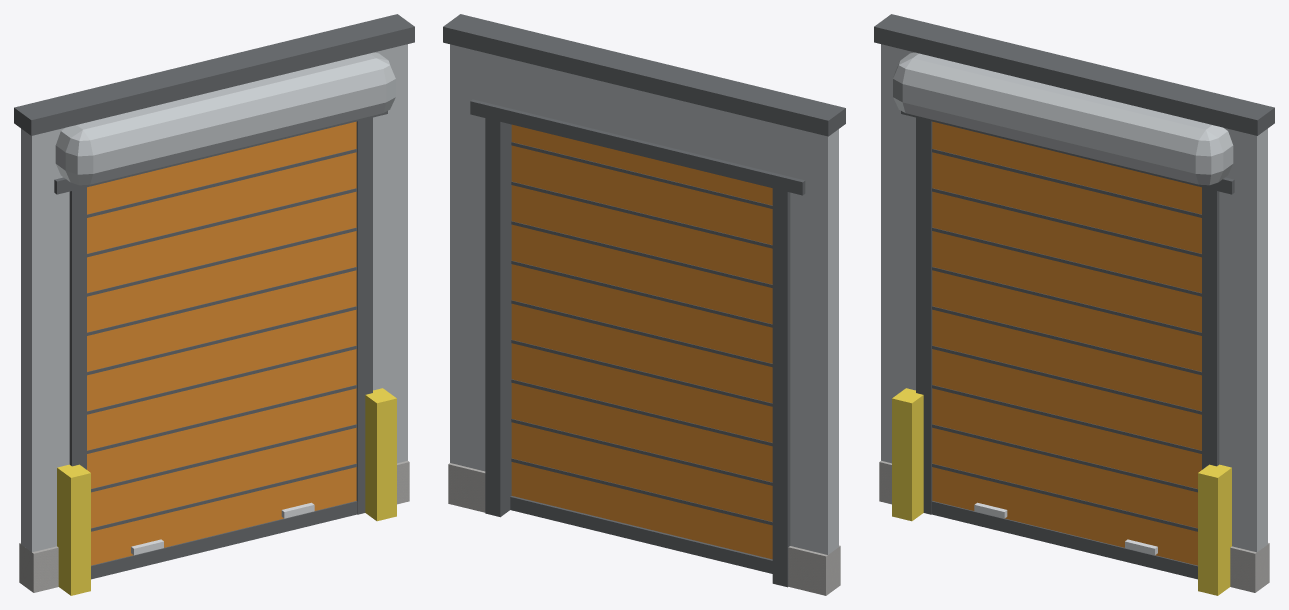
Rendered from tool-hire-depot-and-plant-yard-tool-hire-depot-and-pla-96234efb__35291.glb.
3 views of the same model, side by side, from view 1: azimuth 30°, elevation 25°; view 2: azimuth 150°, elevation 25°; view 3: azimuth 330°, elevation 25° (orthographic).
Parts seen in each view (by area): view 1: shutter/orange, tool-hire-depot-and-plant-yard-depot-roller-shutter-door, shutter/charcoal, shutter/steel; view 2: shutter/orange, tool-hire-depot-and-plant-yard-depot-roller-shutter-door, shutter/charcoal; view 3: shutter/orange, tool-hire-depot-and-plant-yard-depot-roller-shutter-door, shutter/charcoal, shutter/steel.
Part boxes in pixels (bbox=[...]): shutter/orange: bbox=[87, 121, 356, 565]; tool-hire-depot-and-plant-yard-depot-roller-shutter-door: bbox=[14, 14, 414, 595]; shutter/charcoal: bbox=[87, 149, 357, 579]; shutter/steel: bbox=[131, 502, 314, 555]; shutter/orange: bbox=[511, 124, 772, 559]; tool-hire-depot-and-plant-yard-depot-roller-shutter-door: bbox=[443, 14, 845, 595]; shutter/charcoal: bbox=[510, 142, 772, 573]; shutter/orange: bbox=[932, 121, 1201, 565]; tool-hire-depot-and-plant-yard-depot-roller-shutter-door: bbox=[874, 14, 1274, 595]; shutter/charcoal: bbox=[931, 149, 1201, 579]; shutter/steel: bbox=[974, 502, 1157, 555].
Bounding box in the file's own units: 3.06 × 3.62 × 0.47.
Materials: 6 (1 with a texture image).
